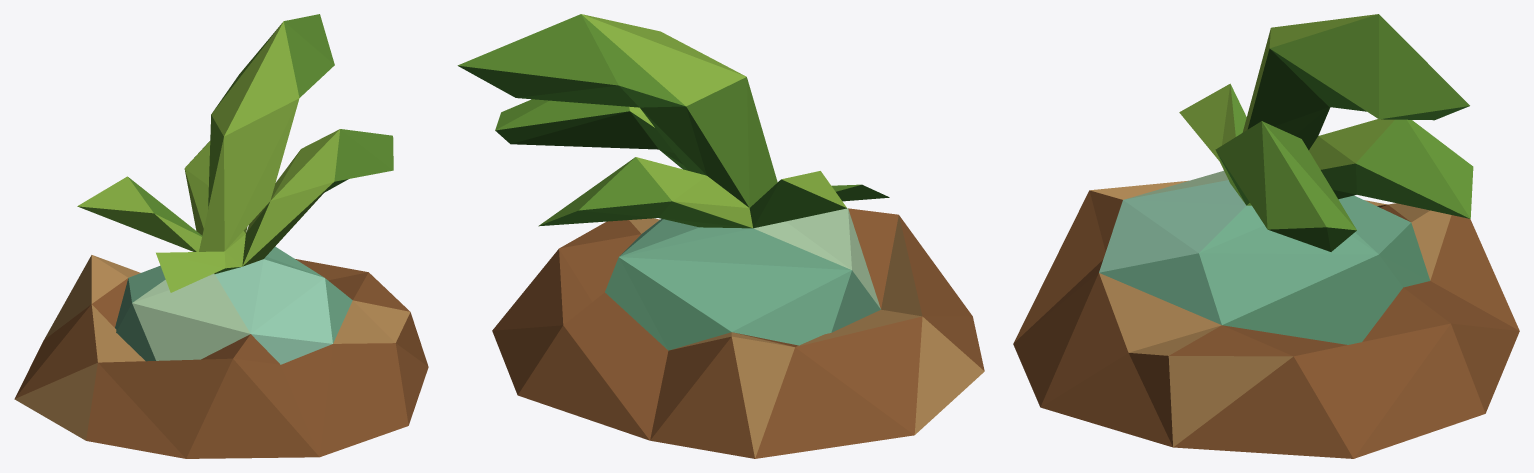
The model's file is swiftroot_growing.glb.
The picture shows the model from 3 angles, left to right: view 1: azimuth 30°, elevation 25°; view 2: azimuth 150°, elevation 25°; view 3: azimuth 270°, elevation 25°; orthographic projection. The views are drawn at different scales.
Visible parts, largest first — view 1: swiftroot_growing; view 2: swiftroot_growing; view 3: swiftroot_growing.
Boxes of the visible parts, x1,y1,x2,y2 form: swiftroot_growing: [14, 14, 428, 458]; swiftroot_growing: [457, 14, 984, 458]; swiftroot_growing: [1013, 14, 1519, 458].
Size of the model in its own units: 0.2828 by 0.2257 by 0.2608.
